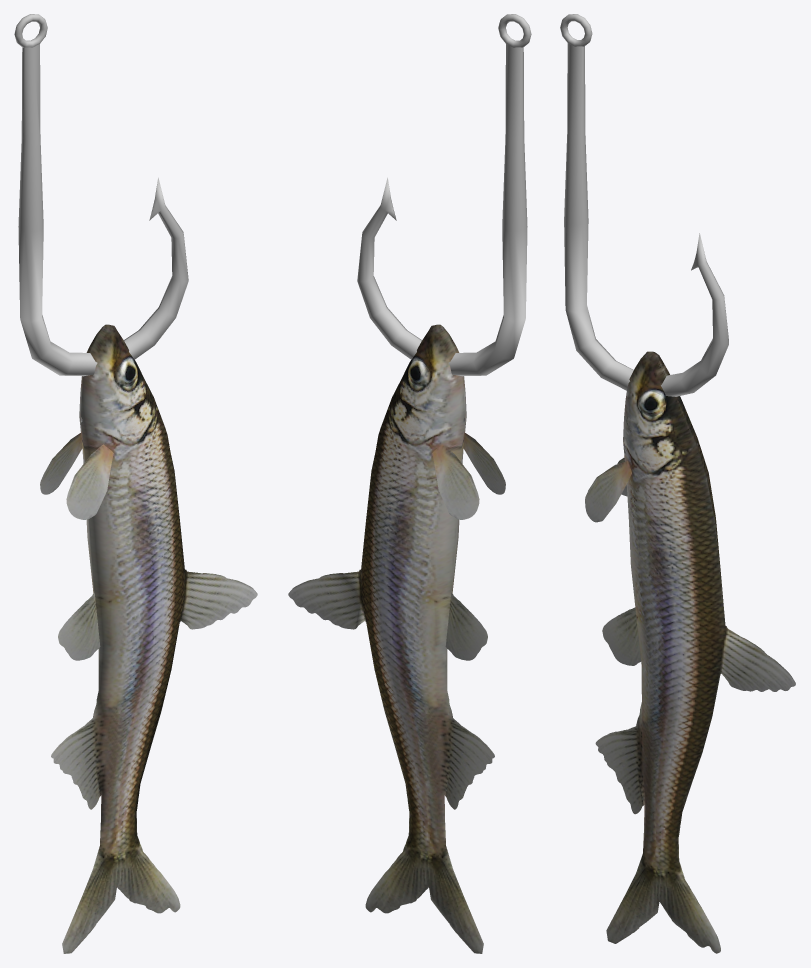
Rendered from Bait_PondSmelt.fbx.
3 views of the same model, side by side, from view 1: azimuth 30°, elevation 25°; view 2: azimuth 150°, elevation 25°; view 3: azimuth 330°, elevation 25° (orthographic). The views are drawn at different scales.
Parts seen in each view (by area): view 1: Bait_PondSmelt; view 2: Bait_PondSmelt; view 3: Bait_PondSmelt.
Part boxes in pixels (x1,y1,x2,y2): Bait_PondSmelt: (14, 14, 257, 953); Bait_PondSmelt: (288, 14, 531, 953); Bait_PondSmelt: (560, 14, 795, 953).
Bounding box in the file's own units: 0.297 × 1.11 × 0.0809.
